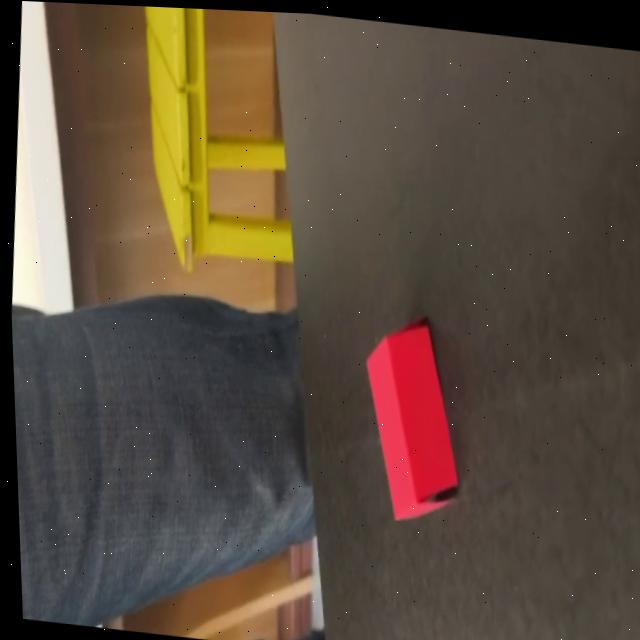red block: (352, 313, 471, 530)
